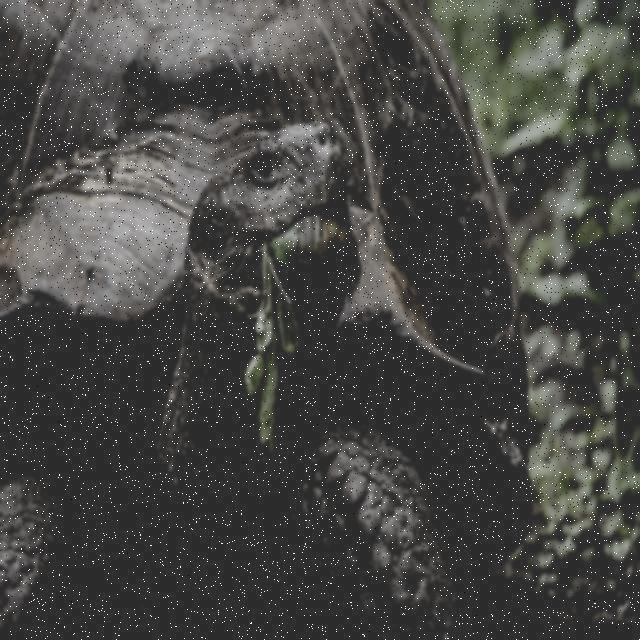tortoise: (0, 0, 548, 640)
